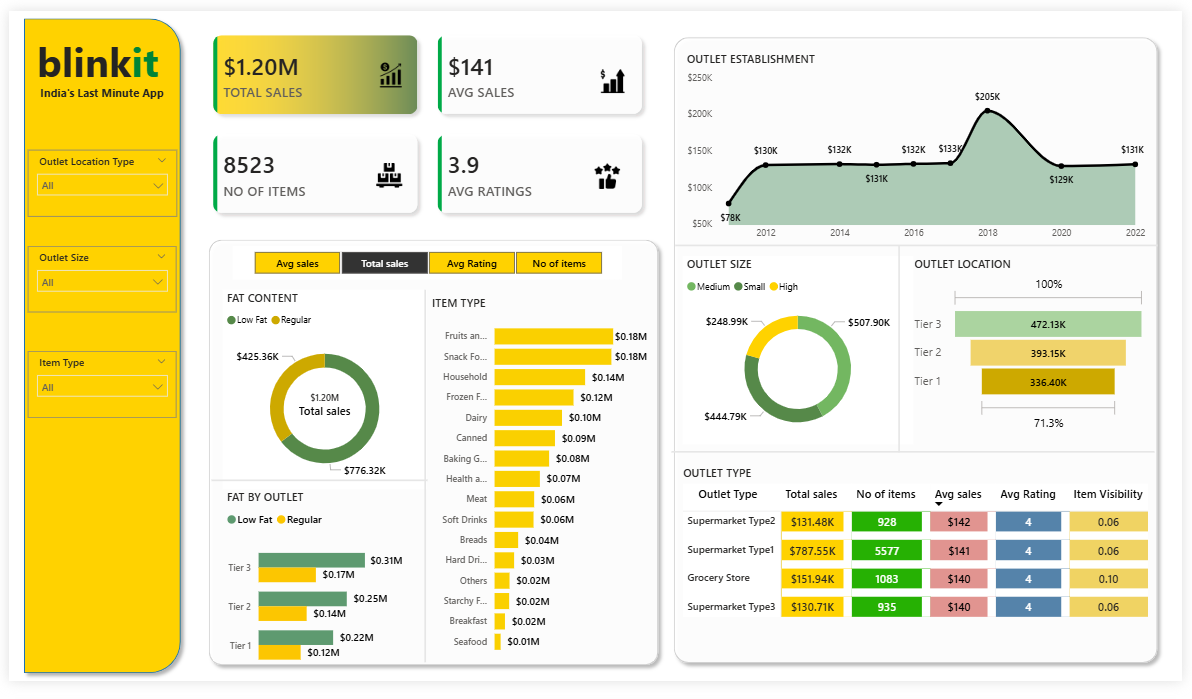

This screenshot's page, from the dashboard's own definition file:
{"tool":"powerbi","page":{"name":"Page 1","canvas":[1400,800],"ordinal":0},"visuals":[{"type":"shape","box":[8.8,0,205,799.6],"z":0},{"type":"textbox","box":[28.3,21.7,165,78.3],"z":1000},{"type":"textbox","box":[26.2,83.8,168.8,32.5],"z":2000},{"type":"cardVisual","fields":{"Data":["BlinkIT Grocery Data.Total sales","BlinkIT Grocery Data.Avg sales","BlinkIT Grocery Data.No of items","BlinkIT Grocery Data.Avg Rating"]},"box":[215,0,570,270],"z":3000},{"type":"image","box":[434.3,61.4,42.9,30],"z":4000},{"type":"image","box":[700,68.6,41.4,30],"z":5000},{"type":"image","box":[432.9,180,42,31.4],"z":6000},{"type":"image","box":[688.6,181.4,52.9,30],"z":7000},{"type":"shape","box":[230,264.3,554.3,525.7],"z":8000},{"type":"donutChart","title":" FAT CONTENT","fields":{"Y":["BlinkIT Grocery Data.Total sales"],"Category":["BlinkIT Grocery Data.Item Fat Content"]},"box":[255,332.5,243.8,238.8],"z":9000},{"type":"slicer","fields":{"Values":["Metrics.Metrics"]},"box":[267.5,280,465,40],"z":10000},{"type":"cardVisual","fields":{"Data":["BlinkIT Grocery Data.Total sales"]},"box":[316.2,435,121.2,71.2],"z":11000},{"type":"clusteredBarChart","title":"FAT BY OUTLET","fields":{"Y":["BlinkIT Grocery Data.Total sales"],"Category":["BlinkIT Grocery Data.Outlet Location Type"],"Series":["BlinkIT Grocery Data.Item Fat Content"]},"box":[255,570,220,230],"z":12000},{"type":"shape","box":[242,528,258,64],"z":13000},{"type":"shape","box":[476.7,333.3,41.7,445],"z":14000},{"type":"barChart","title":"ITEM TYPE","fields":{"Y":["BlinkIT Grocery Data.Total sales"],"Category":["BlinkIT Grocery Data.Item Type"]},"box":[500,339.1,267.4,439.1],"z":15000},{"type":"shape","box":[785,22.5,595,765],"z":16000},{"type":"lineChart","title":"OUTLET ESTABLISHMENT","fields":{"Y":["BlinkIT Grocery Data.Total sales"],"Category":["BlinkIT Grocery Data.Outlet Establishment Year"]},"box":[805,47.5,557.5,235],"z":17000},{"type":"donutChart","title":"OUTLET SIZE","fields":{"Y":["BlinkIT Grocery Data.Total sales"],"Category":["BlinkIT Grocery Data.Outlet Size"]},"box":[805,292.5,275,225],"z":18000},{"type":"shape","box":[1040,280,45,246.7],"z":19000},{"type":"funnel","title":"OUTLET LOCATION","fields":{"Category":["BlinkIT Grocery Data.Outlet Location Type"],"Y":["Sum(BlinkIT Grocery Data.Sales)"]},"box":[1076.5,292.2,286.3,213.7],"z":20000},{"type":"shape","box":[795.5,248.9,576.1,61.4],"z":21000},{"type":"shape","box":[791.7,495,576.7,61.7],"z":22000},{"type":"pivotTable","title":"OUTLET TYPE","fields":{"Rows":["BlinkIT Grocery Data.Outlet Type"],"Values":["BlinkIT Grocery Data.Total sales","BlinkIT Grocery Data.No of items","BlinkIT Grocery Data.Avg sales","BlinkIT Grocery Data.Avg Rating","Avg(BlinkIT Grocery Data.Item Visibility)"]},"box":[800,541.7,568.3,236.7],"z":23000},{"type":"slicer","fields":{"Values":["BlinkIT Grocery Data.Outlet Location Type"]},"box":[21.7,165,178.3,80],"z":24000},{"type":"slicer","fields":{"Values":["BlinkIT Grocery Data.Outlet Size"]},"box":[22.2,280,177.8,78.9],"z":25000},{"type":"slicer","fields":{"Values":["BlinkIT Grocery Data.Item Type"]},"box":[22.2,405.6,177.8,80],"z":26000}]}

Visuals, with their boxes in screenshot pixels (x1, y1, x2, y2), scaled from the page's 1400x800 canvas onto the 1192x699 screenshot:
shape: x1=7 y1=0 x2=182 y2=698
textbox: x1=24 y1=19 x2=165 y2=87
textbox: x1=22 y1=73 x2=166 y2=102
cardVisual - BlinkIT Grocery Data.Total sales x BlinkIT Grocery Data.Avg sales: x1=183 y1=0 x2=668 y2=236
image: x1=370 y1=54 x2=406 y2=80
image: x1=596 y1=60 x2=631 y2=86
image: x1=369 y1=157 x2=404 y2=185
image: x1=586 y1=158 x2=631 y2=185
shape: x1=196 y1=231 x2=668 y2=690
" FAT CONTENT" donutChart: x1=217 y1=291 x2=425 y2=499
slicer - Metrics.Metrics: x1=228 y1=245 x2=624 y2=280
cardVisual - BlinkIT Grocery Data.Total sales: x1=269 y1=380 x2=372 y2=442
"FAT BY OUTLET" clusteredBarChart: x1=217 y1=498 x2=404 y2=698
shape: x1=206 y1=461 x2=426 y2=517
shape: x1=406 y1=291 x2=441 y2=680
"ITEM TYPE" barChart: x1=426 y1=296 x2=653 y2=680
shape: x1=668 y1=20 x2=1175 y2=688
"OUTLET ESTABLISHMENT" lineChart: x1=685 y1=42 x2=1160 y2=247
"OUTLET SIZE" donutChart: x1=685 y1=256 x2=920 y2=452
shape: x1=885 y1=245 x2=924 y2=460
"OUTLET LOCATION" funnel: x1=917 y1=255 x2=1160 y2=442
shape: x1=677 y1=217 x2=1168 y2=271
shape: x1=674 y1=433 x2=1165 y2=486
"OUTLET TYPE" pivotTable: x1=681 y1=473 x2=1165 y2=680
slicer - BlinkIT Grocery Data.Outlet Location Type: x1=18 y1=144 x2=170 y2=214
slicer - BlinkIT Grocery Data.Outlet Size: x1=19 y1=245 x2=170 y2=314
slicer - BlinkIT Grocery Data.Item Type: x1=19 y1=354 x2=170 y2=424
